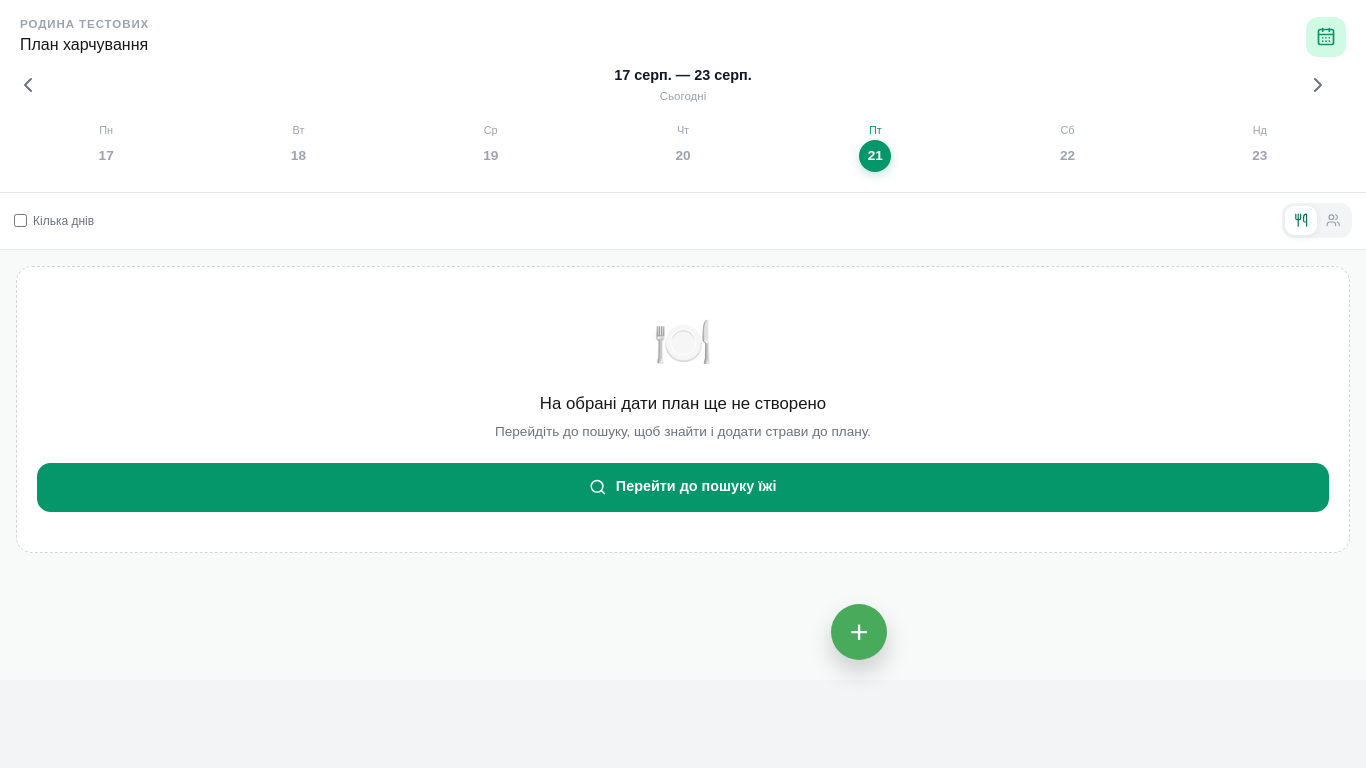
Test: MealPlanScreen › opens a localized day picker from the calendar button
Click the button named "Обрати дату в календарі" at point(1326, 37), box [1306,17,1346,57]
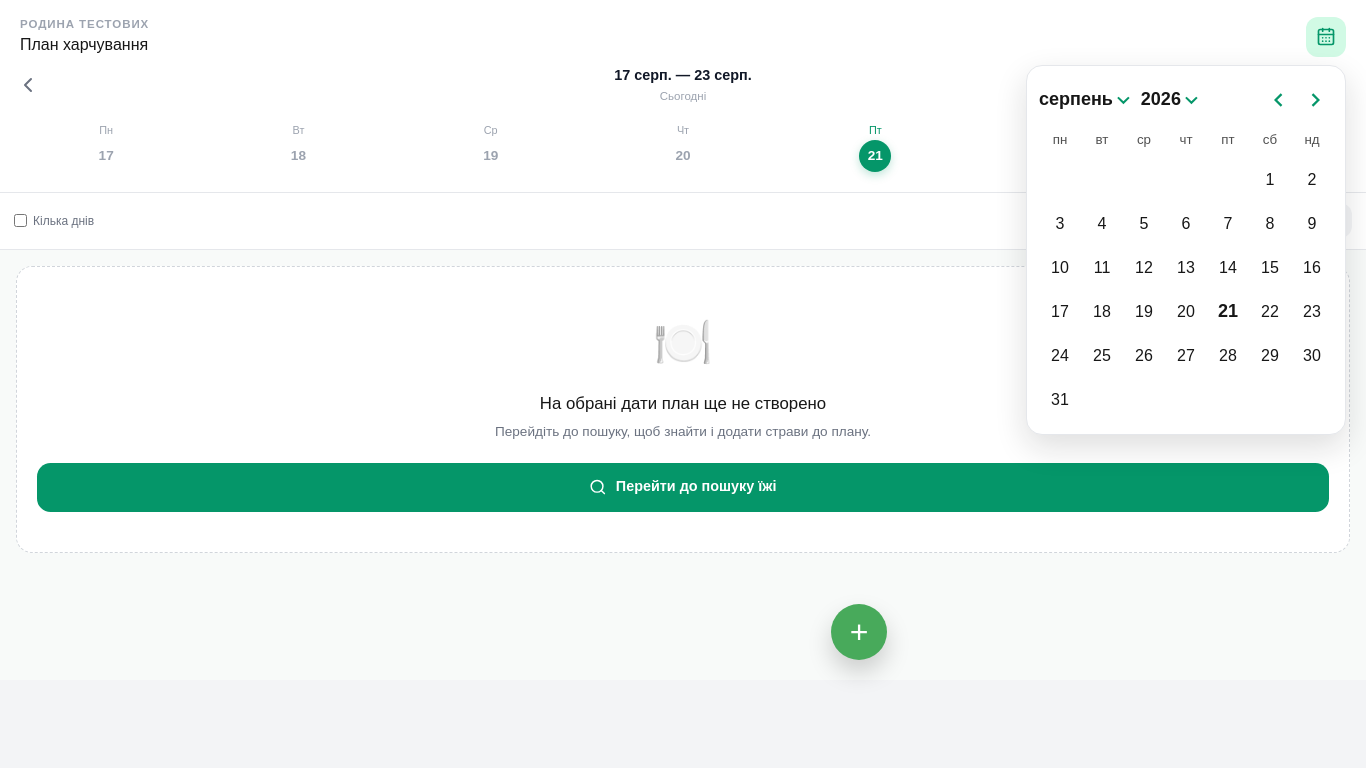
Expected: the element that starts with "серпень" is shown, [1026,65,1346,435]
